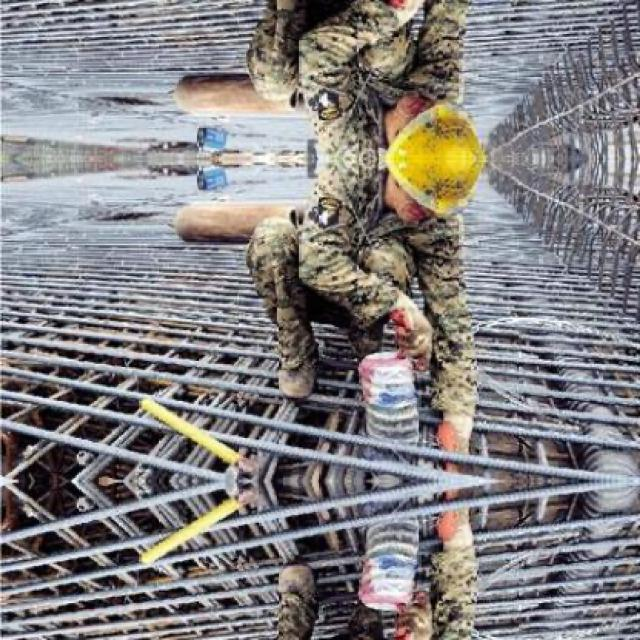helmet: (366, 160, 497, 232), (366, 86, 497, 158)
